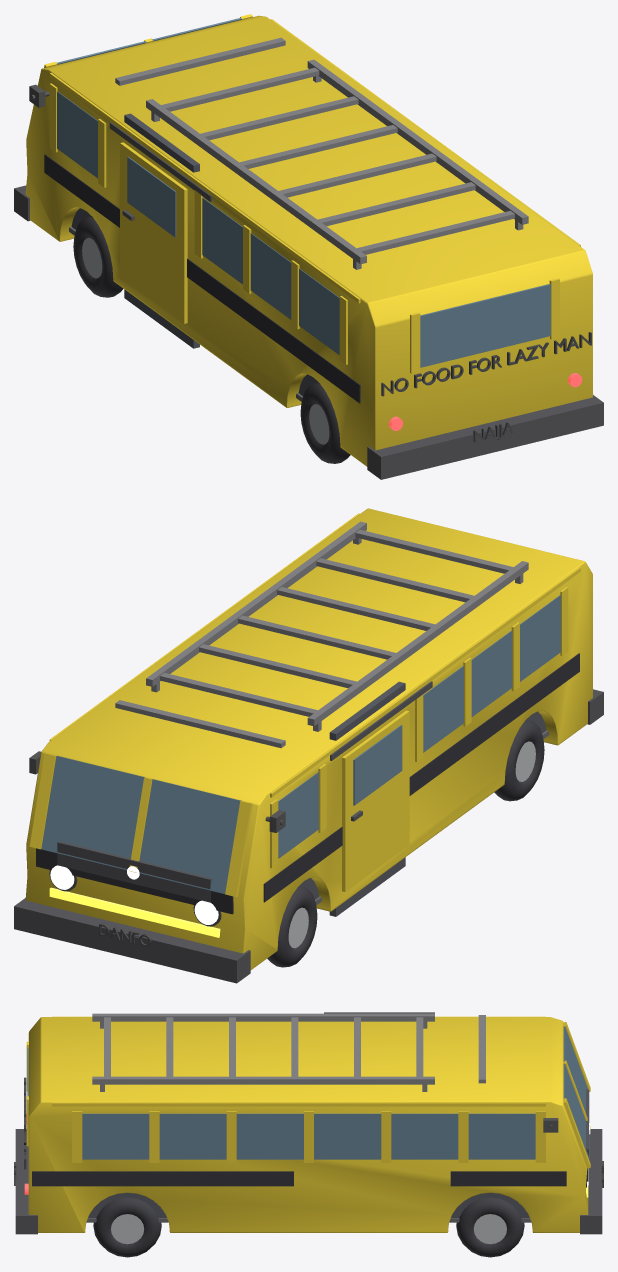
The model's file is danfo.glb.
The picture shows the model from 3 angles, top to bottom: view 1: azimuth 30°, elevation 25°; view 2: azimuth 150°, elevation 25°; view 3: azimuth 270°, elevation 25°; orthographic projection. The views are drawn at different scales.
Visible parts, largest first — view 1: danfo_body, transit_door_1, wheel_RL, wheel_FL; view 2: danfo_body, transit_door_1, wheel_RL, wheel_FL; view 3: danfo_body, wheel_FR, wheel_RR.
Boxes of the visible parts, left/top/right/bottom form: danfo_body: left=14, top=14, right=603, bottom=479; transit_door_1: left=120, top=142, right=187, bottom=323; wheel_RL: left=300, top=383, right=350, bottom=463; wheel_FL: left=73, top=217, right=123, bottom=297; danfo_body: left=14, top=508, right=603, bottom=983; transit_door_1: left=342, top=710, right=409, bottom=891; wheel_RL: left=494, top=720, right=544, bottom=801; wheel_FL: left=267, top=886, right=317, bottom=967; danfo_body: left=14, top=1012, right=603, bottom=1234; wheel_FR: left=456, top=1197, right=524, bottom=1257; wheel_RR: left=93, top=1197, right=161, bottom=1257.
Bounding box in the file's own units: 2.3 × 1.9 × 5.85.
